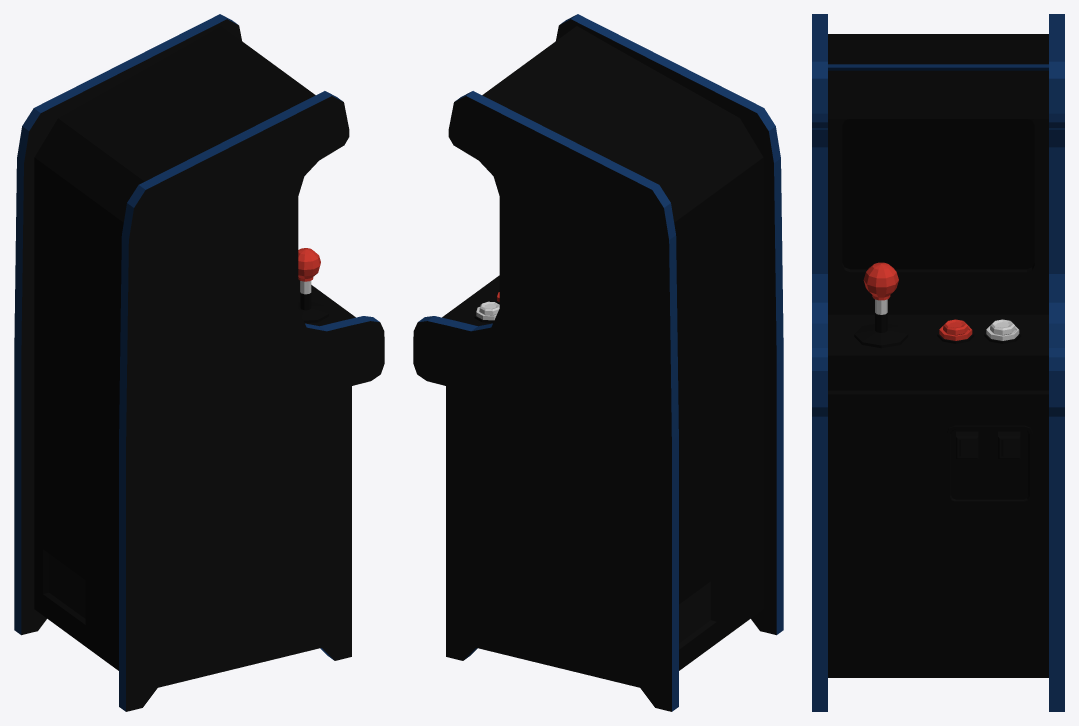
The model's file is Arcade.obj.
3 renders of one model, left to right at view 1: azimuth 30°, elevation 25°; view 2: azimuth 150°, elevation 25°; view 3: azimuth 270°, elevation 25°, orthographic. The views are drawn at different scales.
Parts seen in each view (by area): view 1: Arcade; view 2: Arcade; view 3: Arcade.
Boxes of the visible parts, bbox=[...] form: Arcade: bbox=[14, 14, 384, 711]; Arcade: bbox=[413, 14, 783, 711]; Arcade: bbox=[812, 14, 1064, 711].
Size of the model in its own units: 0.4784 by 1 by 0.3585.
